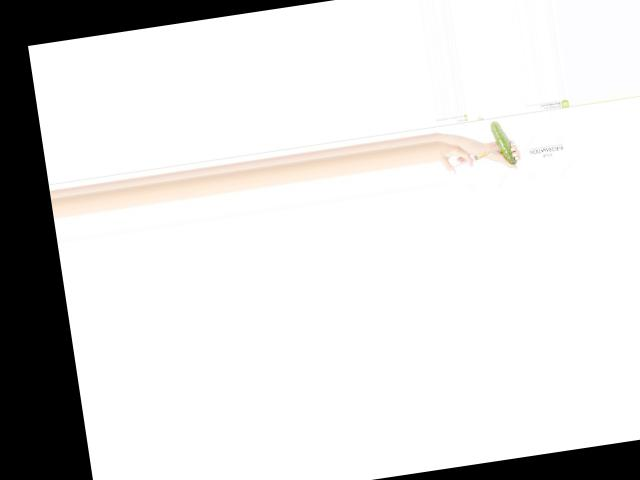cucumber: (489, 118, 516, 167)
